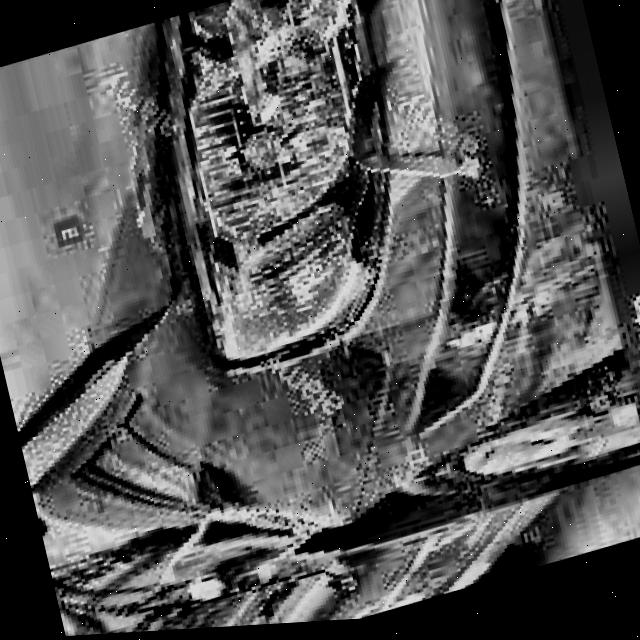head_lamp: (130, 0, 445, 384)
